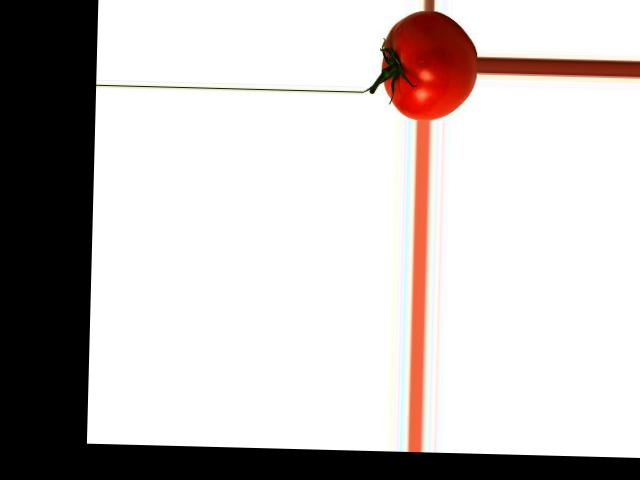tomato: (379, 8, 477, 121)
